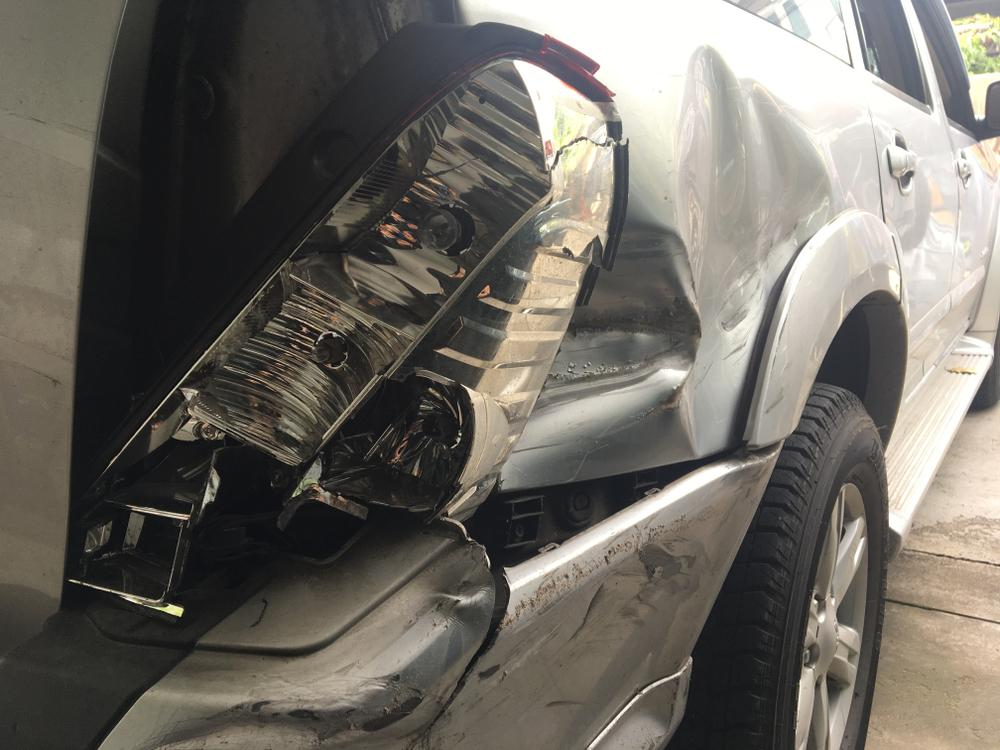crack: (426, 567, 510, 735)
dent: (497, 53, 839, 486)
lamp broken: (66, 50, 619, 569)
scratch: (153, 524, 719, 750)
